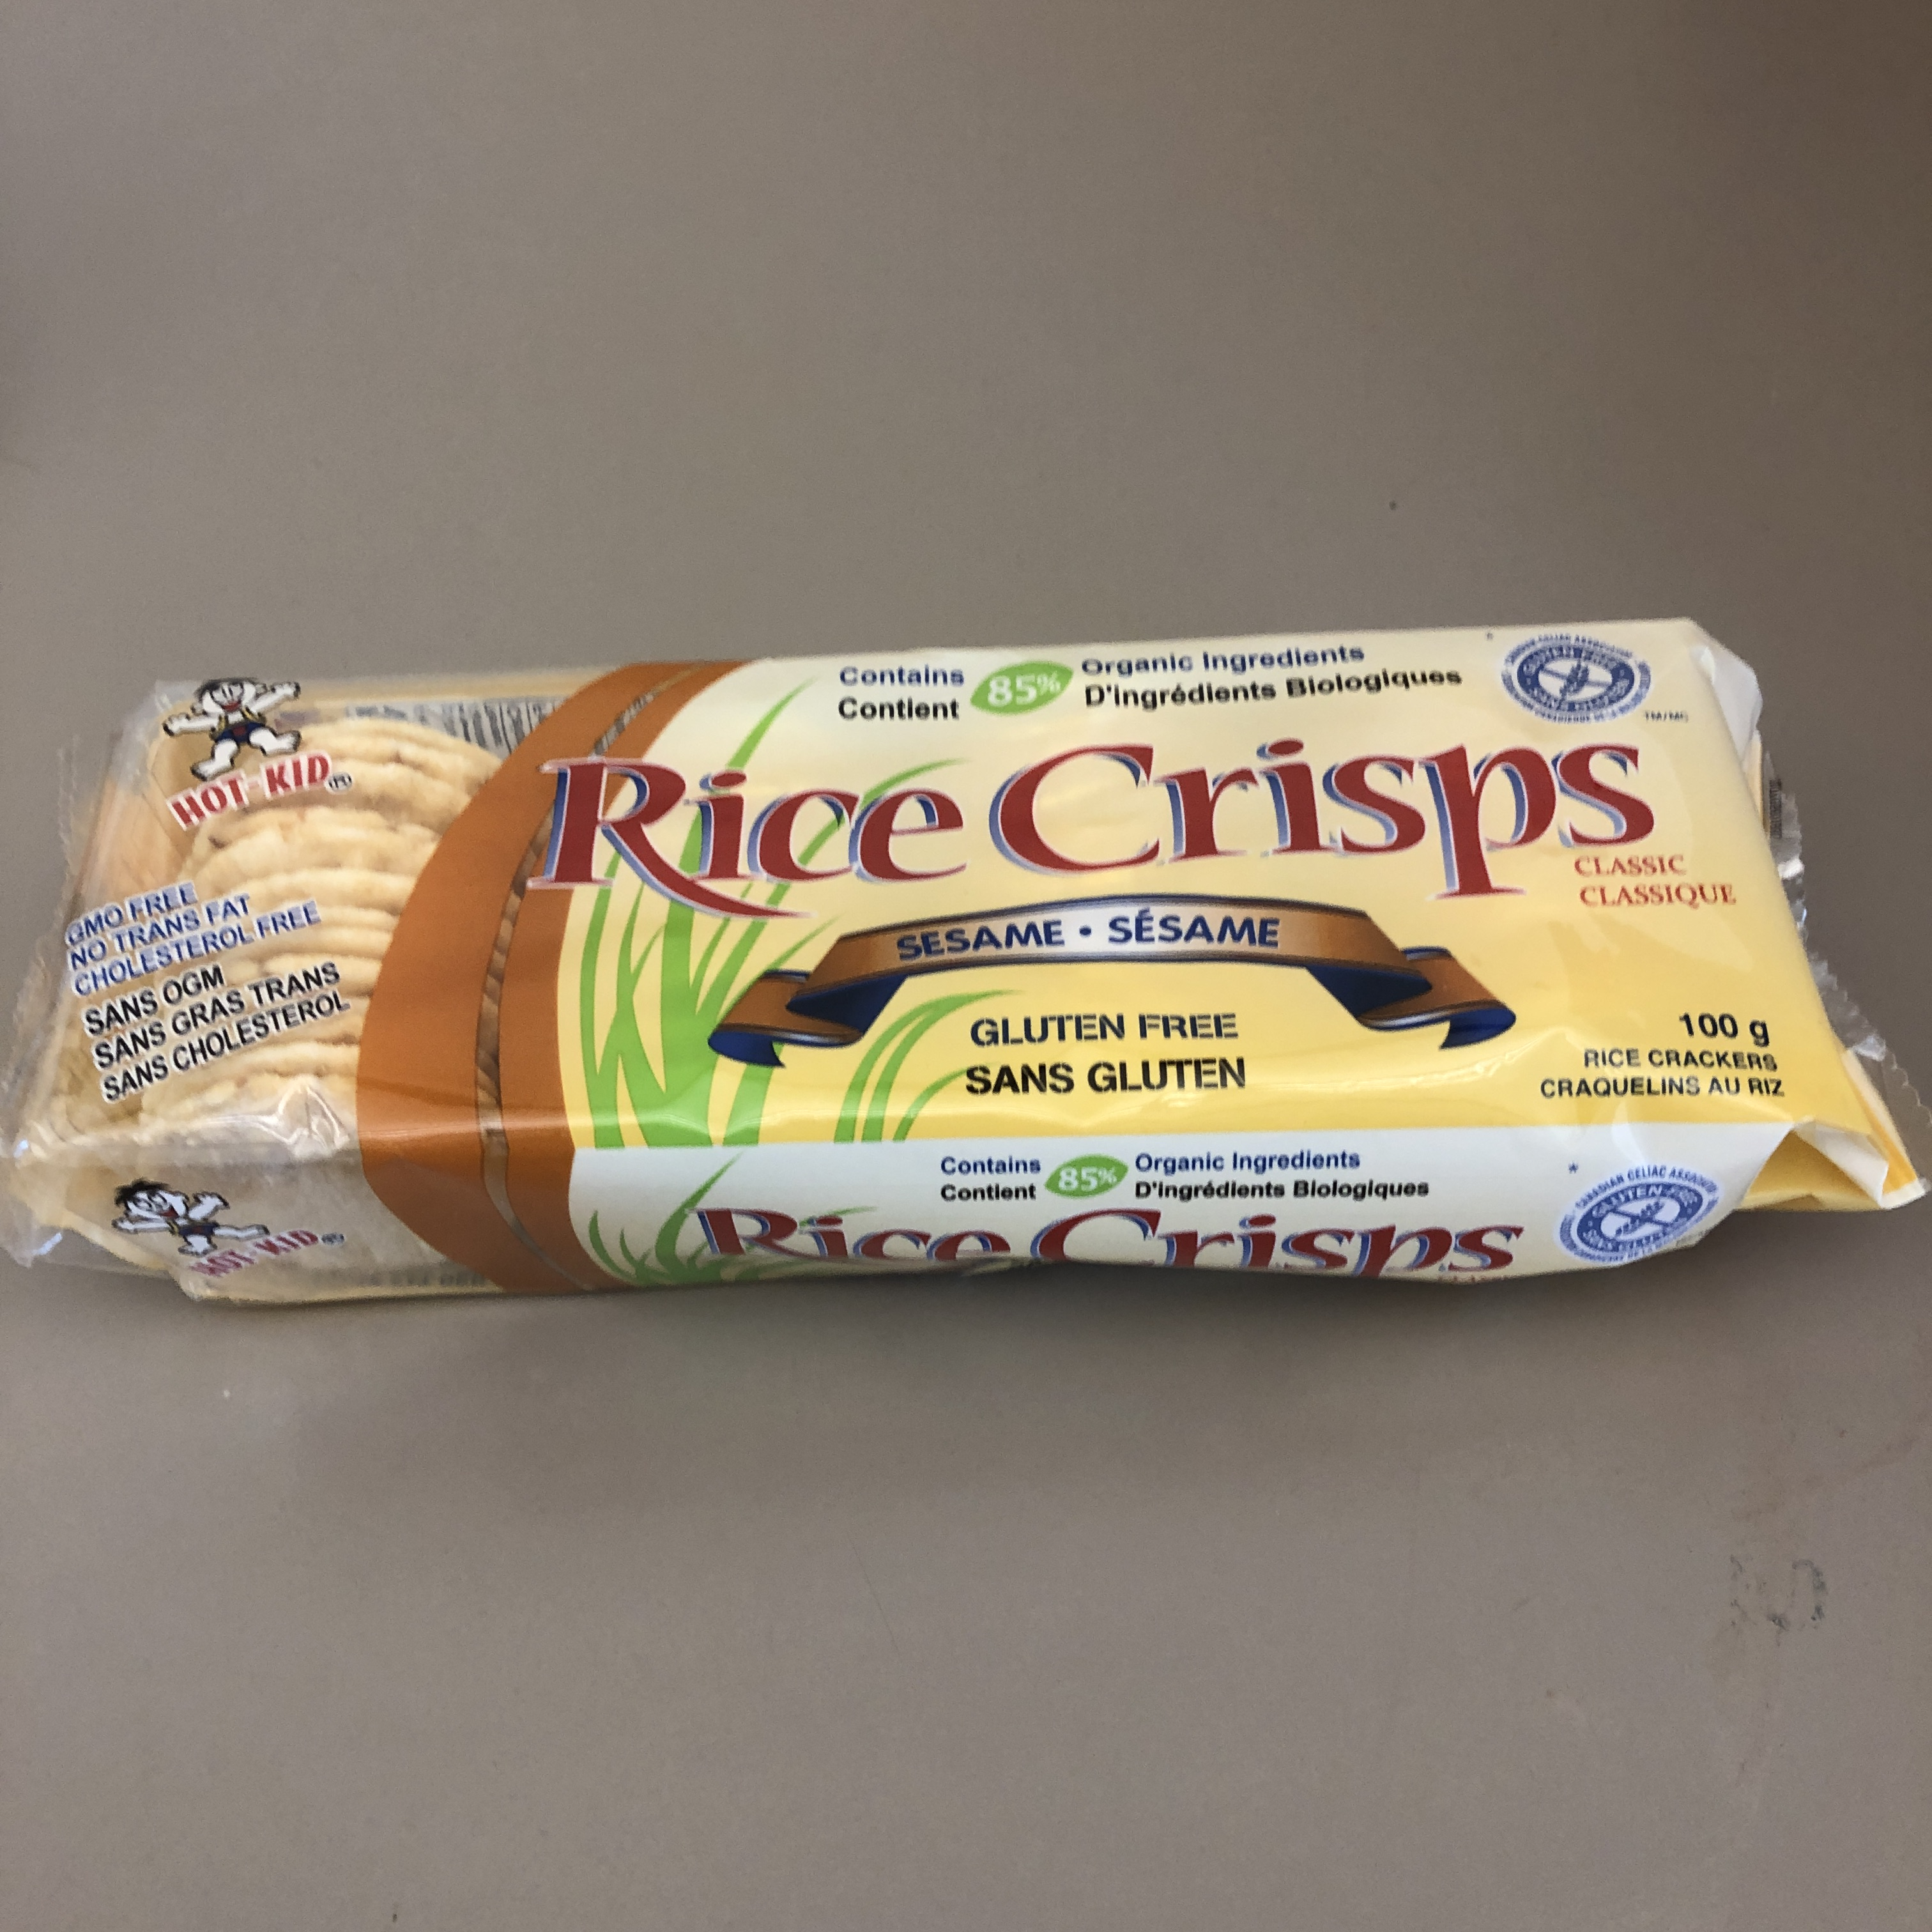hot_kid_rice_crisps_sesame: (641, 128, 1307, 1833)
